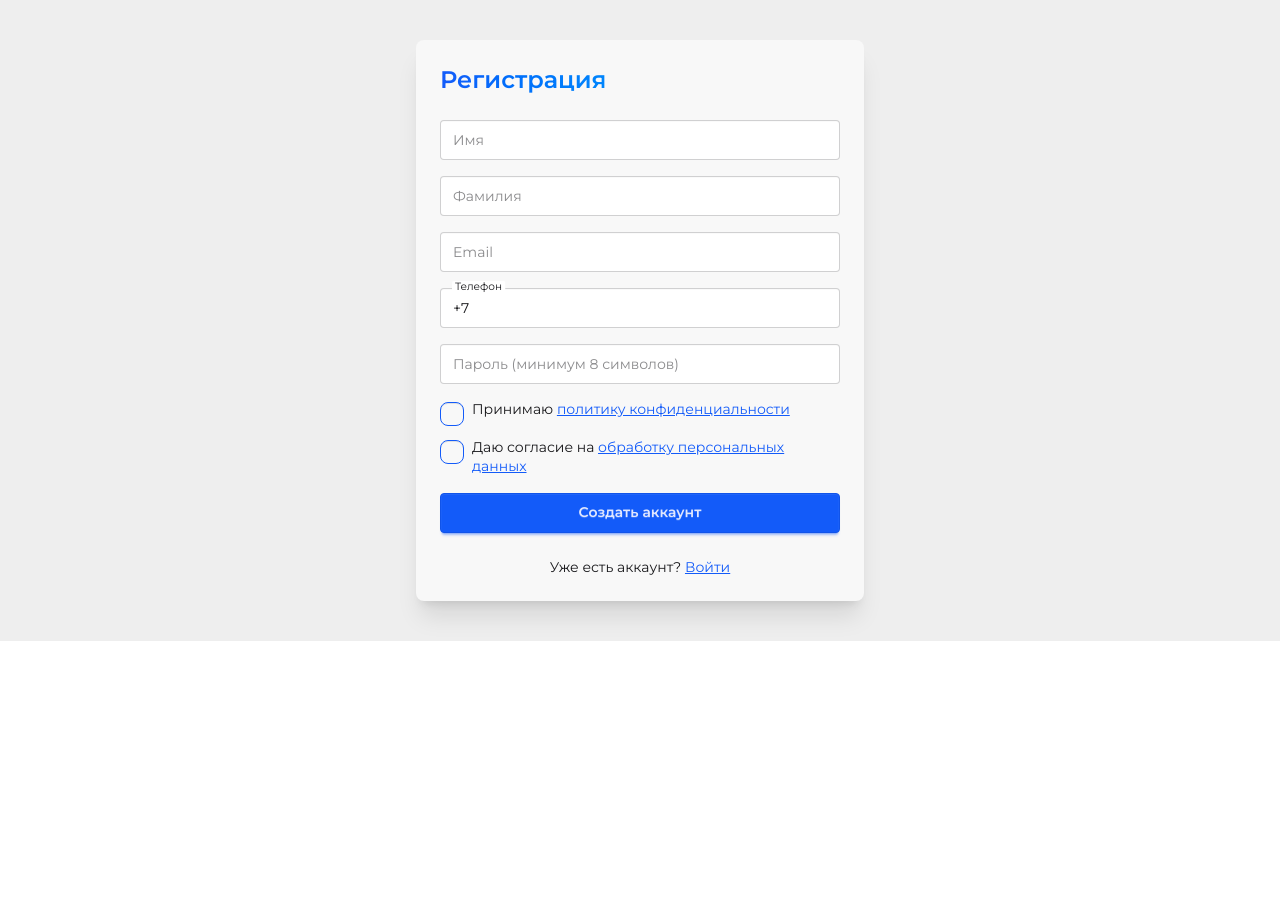
Test: RegisterPage › показывает ошибки валидации при пустой отправке
Click the button "Создать аккаунт" at (640, 512), box [440,492,840,532]
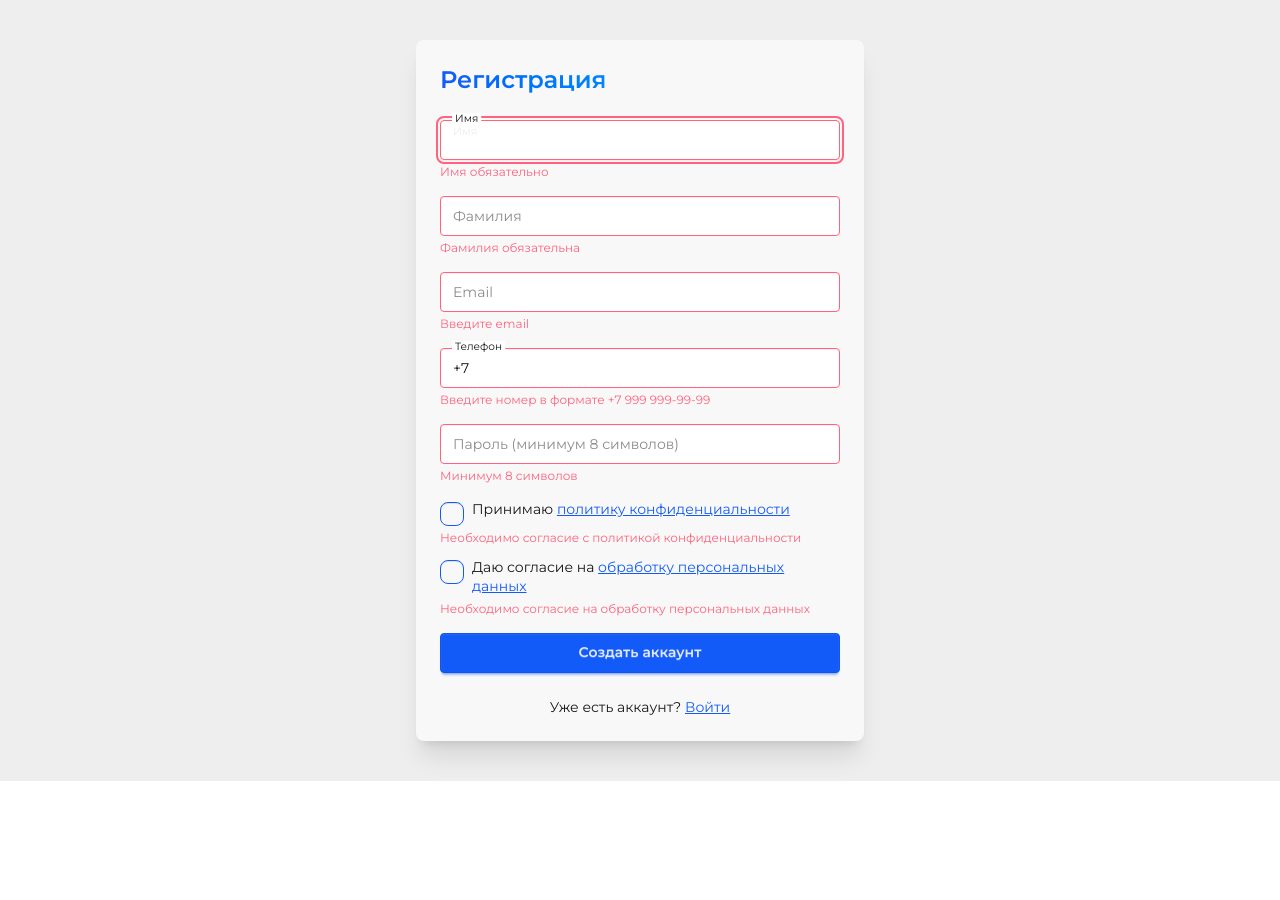
Expected: the text "Имя обязательно" is shown, [440,164,548,179]
Expected: the text "Фамилия обязательна" is shown, [440,240,580,255]
Expected: the text "Введите email" is shown, [440,316,529,331]
